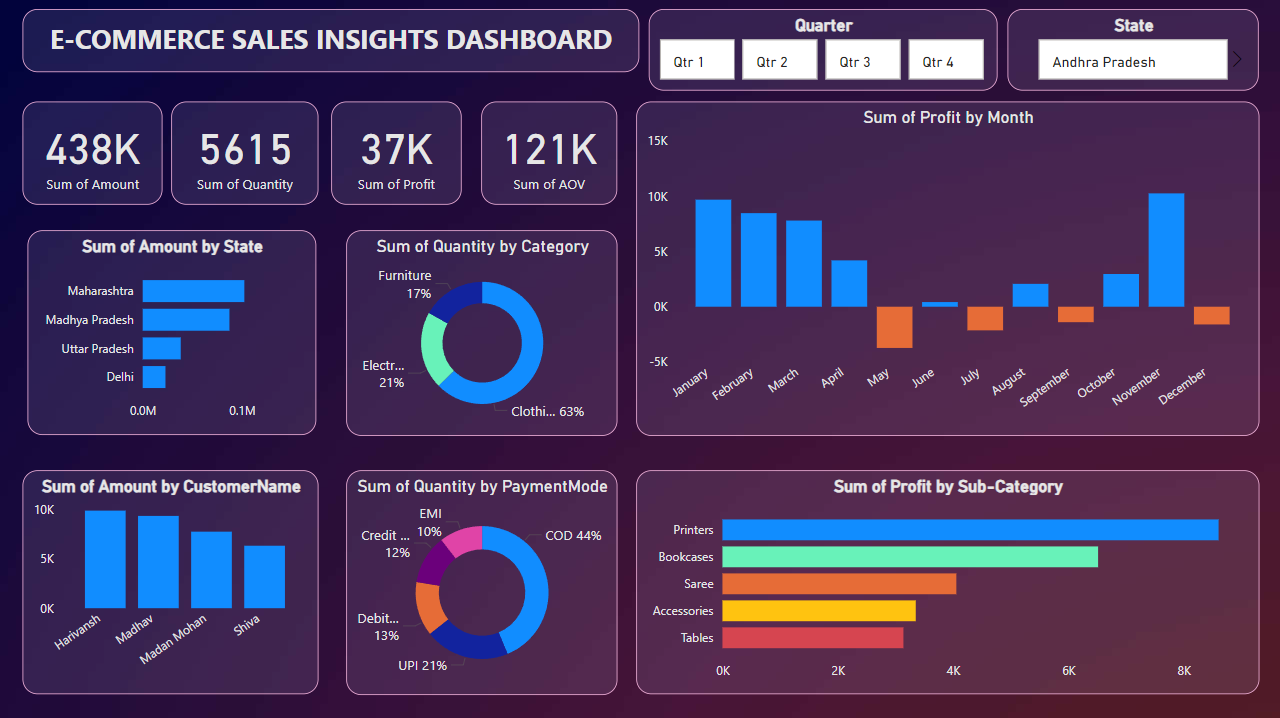

This screenshot's page, from the dashboard's own definition file:
{"tool":"powerbi","page":{"name":"Page 1","canvas":[1280,720],"ordinal":0},"visuals":[{"type":"textbox","box":[22.9,10,617.1,62.9],"z":0},{"type":"columnChart","fields":{"Y":["Details.Profit"],"Category":["Orders.Order Date.Variation.Date Hierarchy.Month"]},"box":[635.7,102.9,622.9,334.3],"z":1000},{"type":"barChart","fields":{"Y":["Details.Profit"],"Category":["Details.Sub-Category"]},"box":[635.7,471.4,622.9,224.3],"z":2000},{"type":"donutChart","fields":{"Y":["Details.Quantity"],"Category":["Details.PaymentMode"]},"box":[346.2,471.2,271.2,225],"z":3000},{"type":"donutChart","fields":{"Category":["Details.Category"],"Y":["Details.Quantity"]},"box":[345.7,231.4,271.4,205.7],"z":4000},{"type":"card","fields":{"Values":["Details.Amount"]},"box":[22.9,102.9,140,102.9],"z":5000},{"type":"card","fields":{"Values":["Details.Quantity"]},"box":[171.4,102.9,147.1,102.9],"z":6000},{"type":"card","fields":{"Values":["Details.Profit"]},"box":[331.4,102.9,130,102.9],"z":7000},{"type":"card","fields":{"Values":["Details.AOV"]},"box":[481.4,102.9,135.7,102.9],"z":8000},{"type":"barChart","fields":{"Category":["Orders.State"],"Y":["Details.Amount"]},"box":[27.5,231.2,288.8,205],"z":10000},{"type":"columnChart","fields":{"Category":["Orders.CustomerName"],"Y":["Details.Amount"]},"box":[22.5,471.2,296.2,223.8],"z":11000},{"type":"advancedSlicerVisual","fields":{"Values":["Orders.Order Date.Variation.Date Hierarchy.Quarter"]},"box":[648.6,10,348.6,81.4],"z":12000},{"type":"advancedSlicerVisual","fields":{"Values":["Orders.State"]},"box":[1007.1,10,251.4,81.4],"z":13000}]}

Visuals, with their boxes in screenshot pixels (x1, y1, x2, y2), scaled from the page's 1280x720 canvas onto the 1280x718 screenshot:
textbox: 23, 10, 640, 73
columnChart - Details.Profit x Orders.Order Date.Variation.Date Hierarchy.Month: 636, 103, 1259, 436
barChart - Details.Profit x Details.Sub-Category: 636, 470, 1259, 694
donutChart - Details.Quantity x Details.PaymentMode: 346, 470, 617, 694
donutChart - Details.Category x Details.Quantity: 346, 231, 617, 436
card - Details.Amount: 23, 103, 163, 205
card - Details.Quantity: 171, 103, 318, 205
card - Details.Profit: 331, 103, 461, 205
card - Details.AOV: 481, 103, 617, 205
barChart - Orders.State x Details.Amount: 28, 231, 316, 435
columnChart - Orders.CustomerName x Details.Amount: 22, 470, 319, 693
advancedSlicerVisual - Orders.Order Date.Variation.Date Hierarchy.Quarter: 649, 10, 997, 91
advancedSlicerVisual - Orders.State: 1007, 10, 1258, 91
